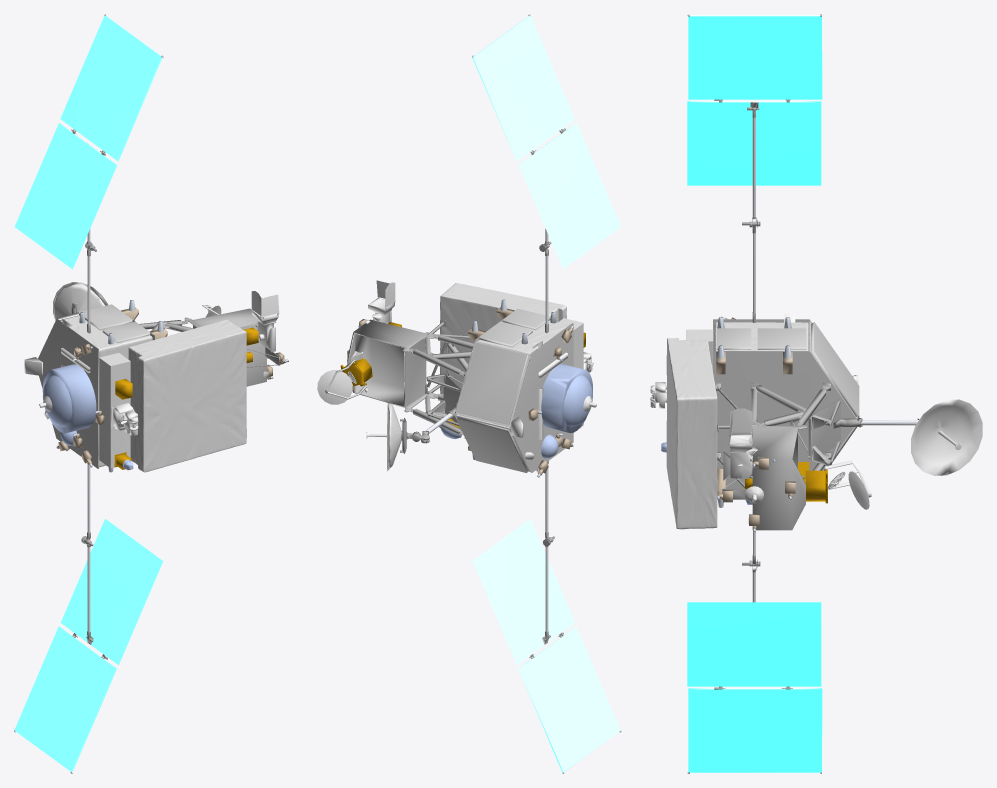
The model's file is Tropical Rainfall Measuring Mission (TRMM).glb.
3 views of the same model, side by side, from view 1: azimuth 30°, elevation 25°; view 2: azimuth 150°, elevation 25°; view 3: azimuth 270°, elevation 25° (orthographic). The views are drawn at different scales.
Parts seen in each view (by area): view 1: TRMM [Solar Panels], TRMM [TRMM_Body], TRMM [Grey Surfaces], TRMM [Blue_Surfaces], TRMM [Silver Surfaces], TRMM [Microwave Imager], TRMM [TRMM_Structure], TRMM [Satellite Dish], TRMM [Microwave_Arm], TRMM [Brown Surfaces], TRMM [Sat/Solar_Arms], TRMM [Orange Surfaces]; view 2: TRMM [Solar Panels], TRMM [Grey Surfaces], TRMM [TRMM_Structure], TRMM [TRMM_Body], TRMM [Blue_Surfaces], TRMM [Silver Surfaces], TRMM [Sat/Solar_Arms], TRMM [Brown Surfaces], TRMM [Microwave_Arm], TRMM [Satellite Dish], TRMM [Microwave Imager], TRMM [CERES] (+1 smaller); view 3: TRMM [Solar Panels], TRMM [Grey Surfaces], TRMM [TRMM_Body], TRMM [TRMM_Structure], TRMM [Microwave_Arm], TRMM [Silver Surfaces], TRMM [Brown Surfaces], TRMM [Sat/Solar_Arms], TRMM [Satellite Dish], TRMM [Microwave_Body].
Part boxes in pixels (left/top/right/bottom): TRMM [Solar Panels]: left=14, top=15, right=163, bottom=772; TRMM [TRMM_Body]: left=128, top=319, right=246, bottom=472; TRMM [Grey Surfaces]: left=38, top=304, right=154, bottom=468; TRMM [Blue_Surfaces]: left=42, top=364, right=133, bottom=470; TRMM [Silver Surfaces]: left=24, top=291, right=279, bottom=451; TRMM [Microwave Imager]: left=99, top=352, right=130, bottom=468; TRMM [TRMM_Structure]: left=139, top=308, right=280, bottom=386; TRMM [Satellite Dish]: left=60, top=315, right=152, bottom=467; TRMM [Microwave_Arm]: left=53, top=282, right=108, bottom=320; TRMM [Brown Surfaces]: left=57, top=307, right=285, bottom=465; TRMM [Sat/Solar_Arms]: left=87, top=229, right=90, bottom=632; TRMM [Orange Surfaces]: left=114, top=327, right=258, bottom=469; TRMM [Solar Panels]: left=472, top=16, right=620, bottom=772; TRMM [Grey Surfaces]: left=454, top=308, right=573, bottom=472; TRMM [TRMM_Structure]: left=347, top=319, right=473, bottom=438; TRMM [TRMM_Body]: left=440, top=283, right=566, bottom=401; TRMM [Blue_Surfaces]: left=358, top=325, right=592, bottom=458; TRMM [Silver Surfaces]: left=317, top=280, right=596, bottom=472; TRMM [Sat/Solar_Arms]: left=425, top=228, right=548, bottom=631; TRMM [Brown Surfaces]: left=347, top=307, right=572, bottom=475; TRMM [Microwave_Arm]: left=366, top=400, right=401, bottom=470; TRMM [Satellite Dish]: left=478, top=320, right=568, bottom=353; TRMM [Microwave Imager]: left=558, top=318, right=583, bottom=428; TRMM [CERES]: left=456, top=341, right=530, bottom=427; TRMM [Solar Panels]: left=687, top=15, right=822, bottom=772; TRMM [Grey Surfaces]: left=713, top=319, right=859, bottom=488; TRMM [TRMM_Body]: left=666, top=338, right=717, bottom=529; TRMM [TRMM_Structure]: left=715, top=383, right=840, bottom=530; TRMM [Microwave_Arm]: left=911, top=399, right=982, bottom=475; TRMM [Silver Surfaces]: left=650, top=313, right=871, bottom=523; TRMM [Brown Surfaces]: left=716, top=317, right=795, bottom=529; TRMM [Sat/Solar_Arms]: left=752, top=117, right=918, bottom=602; TRMM [Satellite Dish]: left=714, top=322, right=808, bottom=350; TRMM [Microwave_Body]: left=803, top=469, right=827, bottom=503.
Size of the model in its own units: 357 by 1012 by 376.
